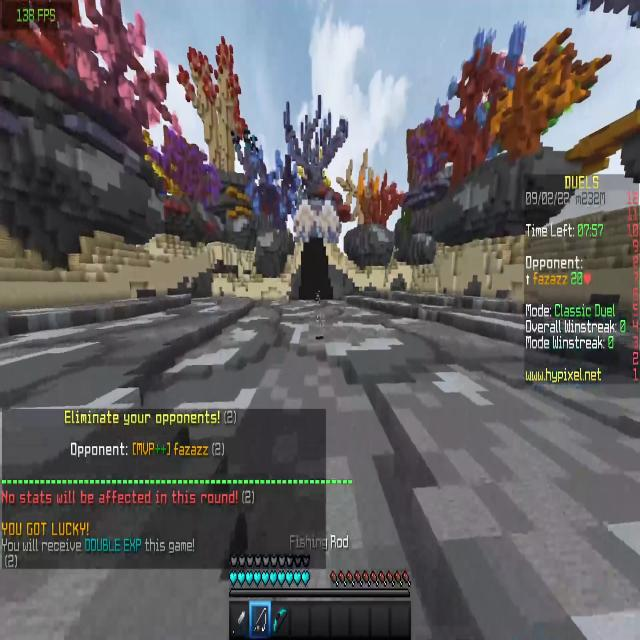Player: (314, 290, 321, 308)
